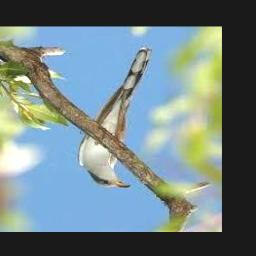Cuckoo: (78, 47, 151, 189)
